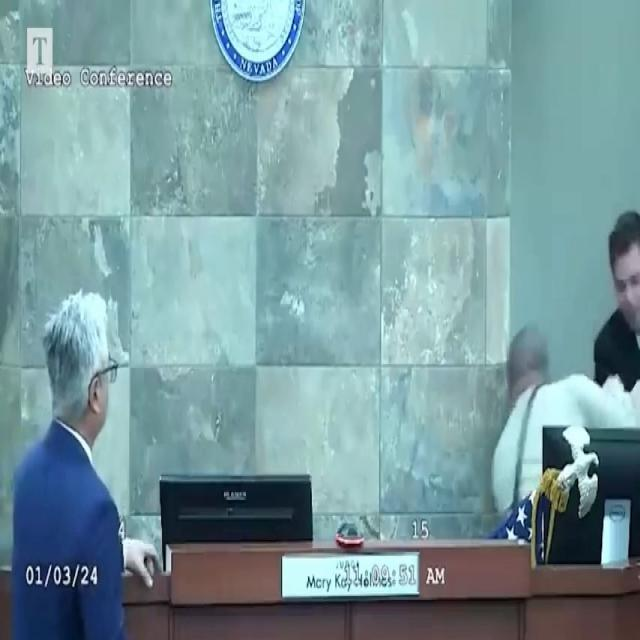fight: (490, 200, 640, 536)
non-fight: (7, 284, 132, 638)
